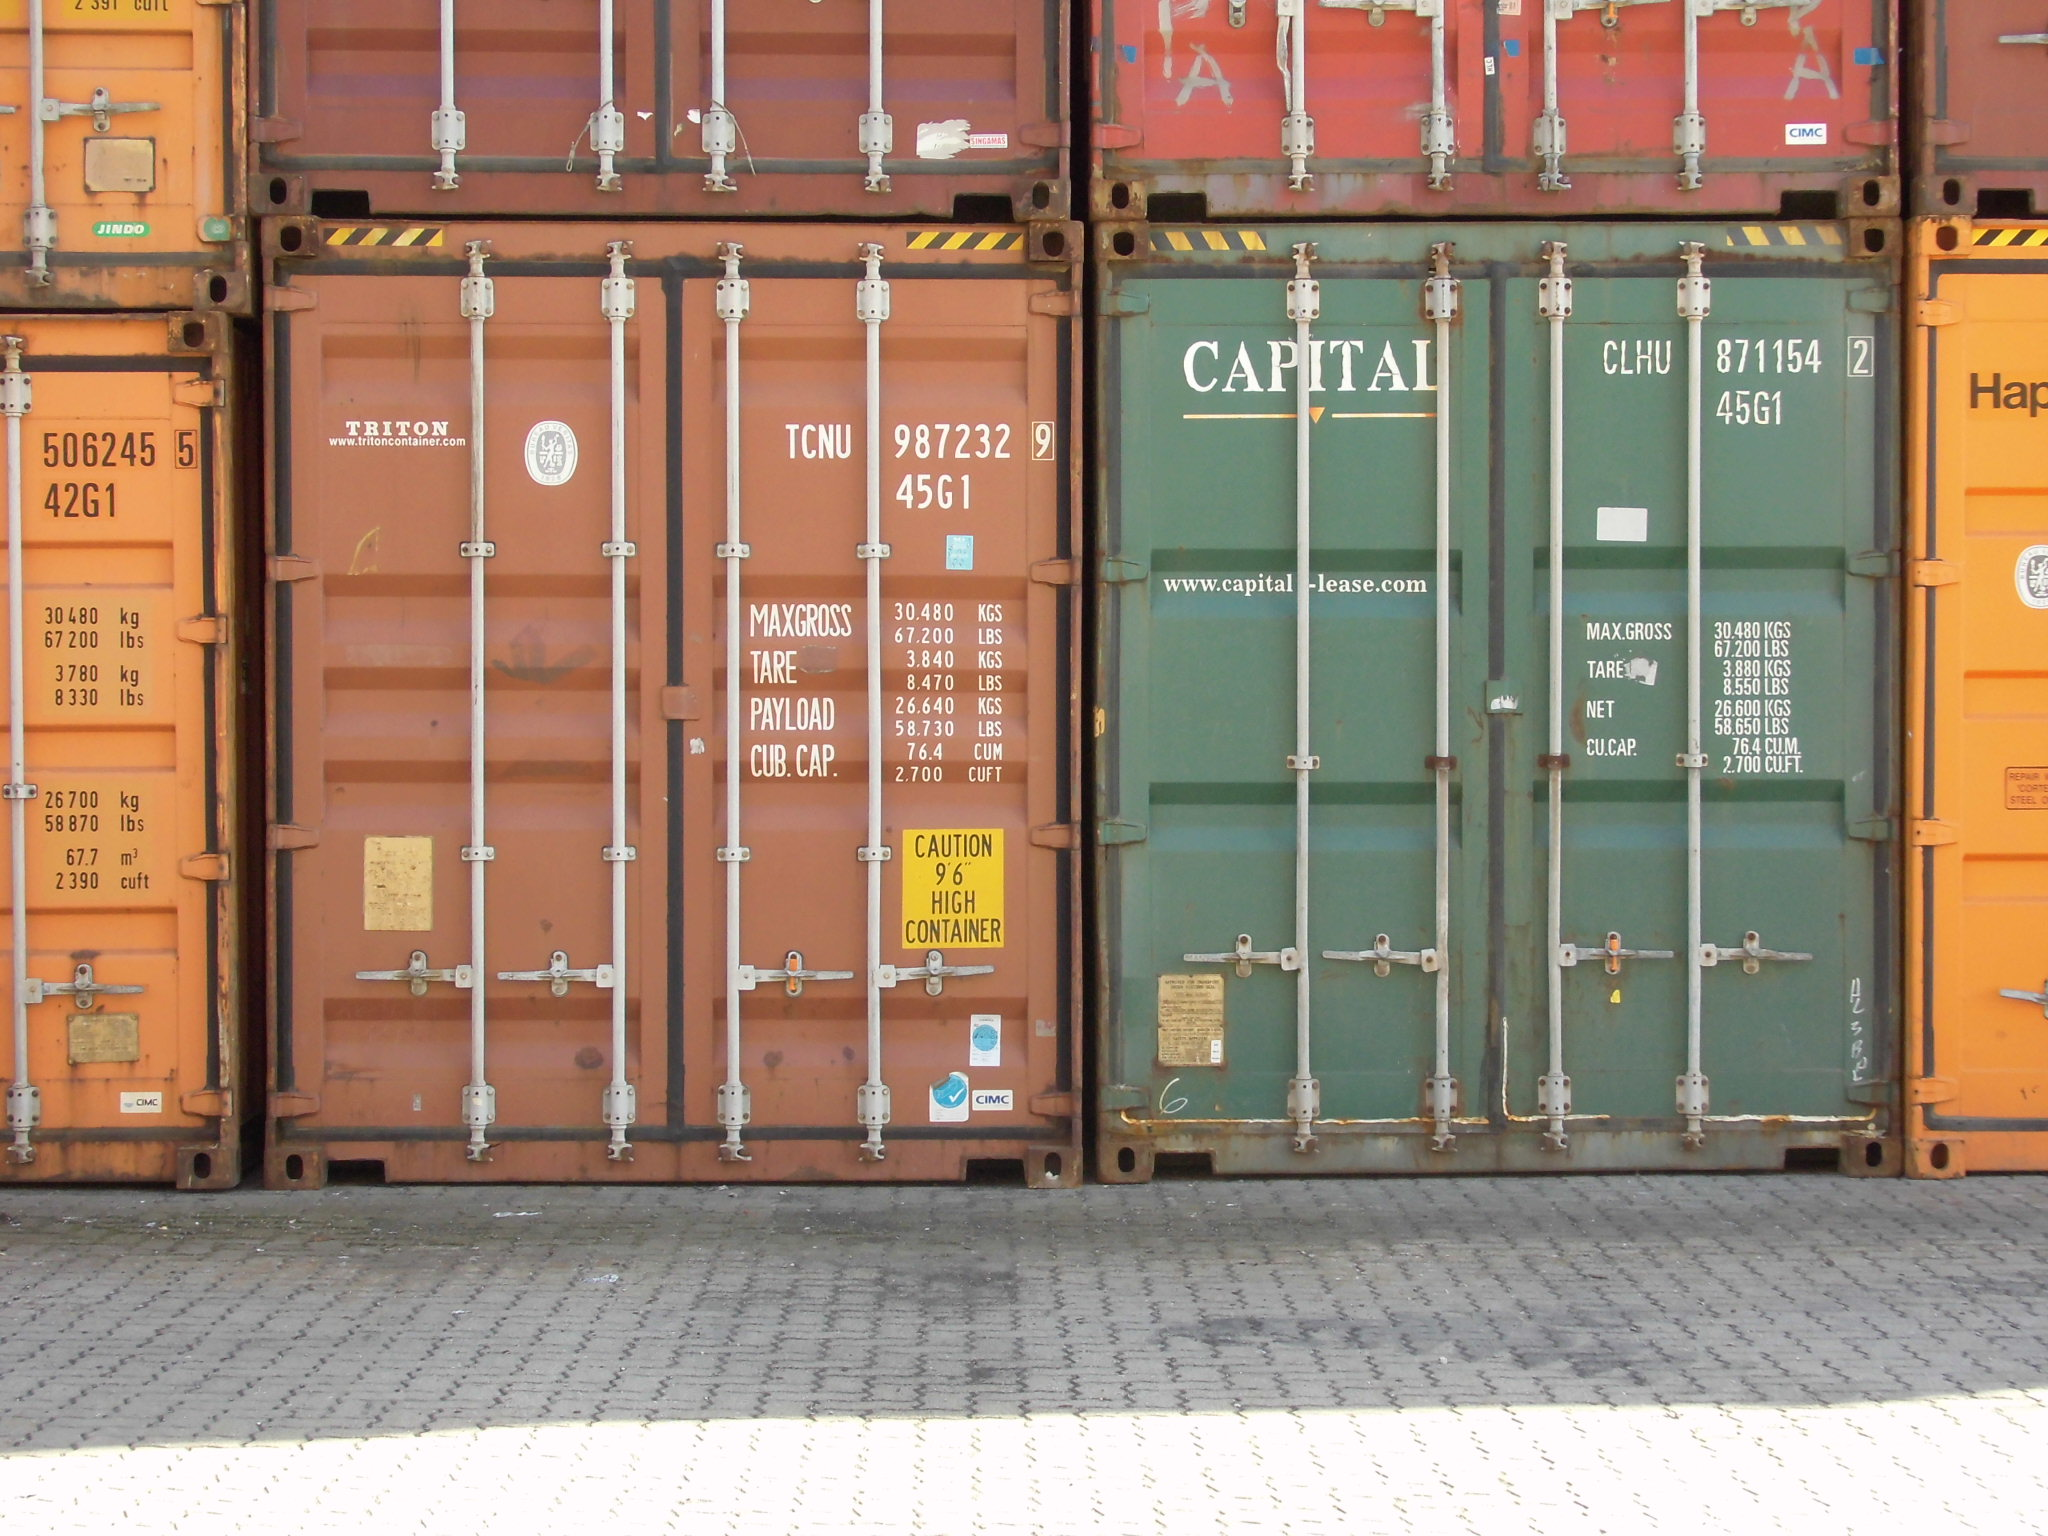container_door: (264, 223, 1076, 1191), (1103, 221, 1914, 1187)
